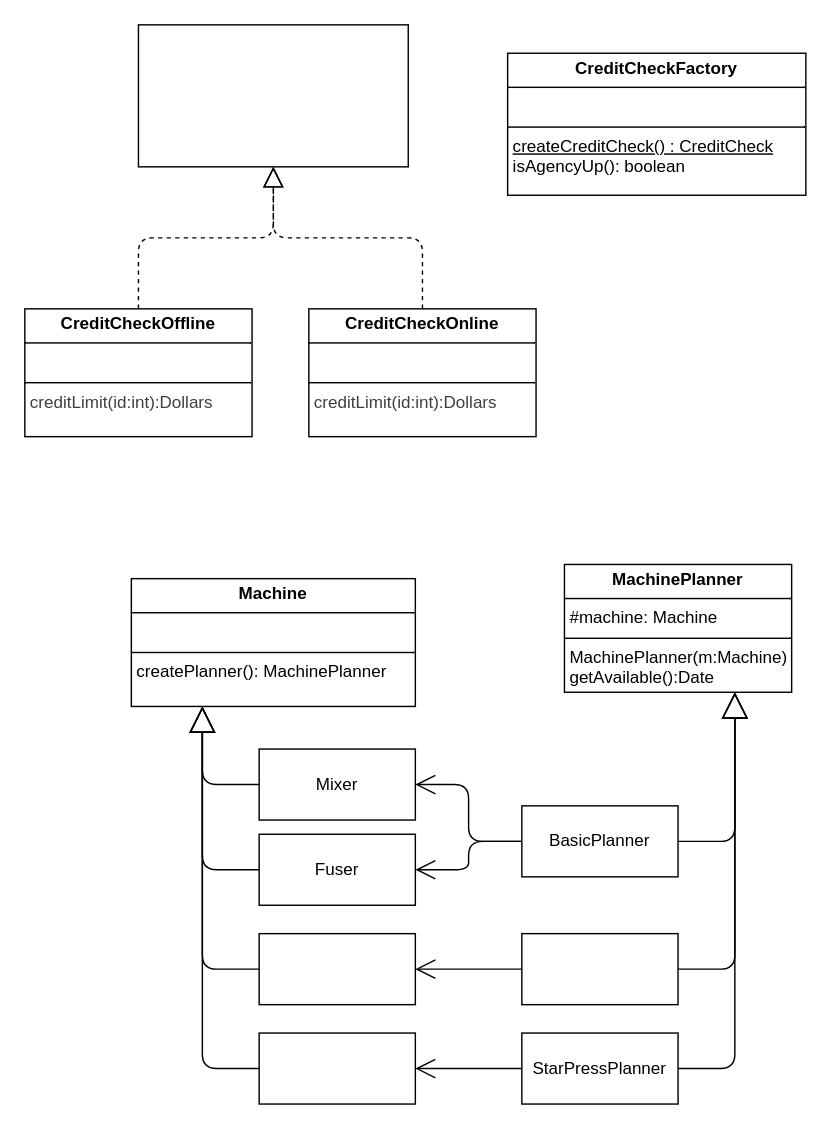
This 831x1129 diagram has some shape labels left out. The centre of each missing label's shape, as x and y in pixels:
<<Interface>> CreditCheck creditLimit(id:int):Dollars: point (272, 95)
ShellAssember: point (336, 968)
ShellPlanner: point (599, 968)
StarPress: point (336, 1068)
